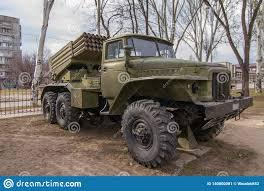MIL_SAM_TEL: (37, 30, 243, 169)
